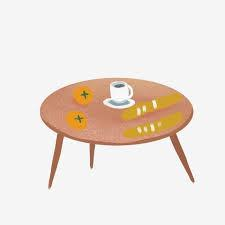desk: (25, 54, 203, 200)
